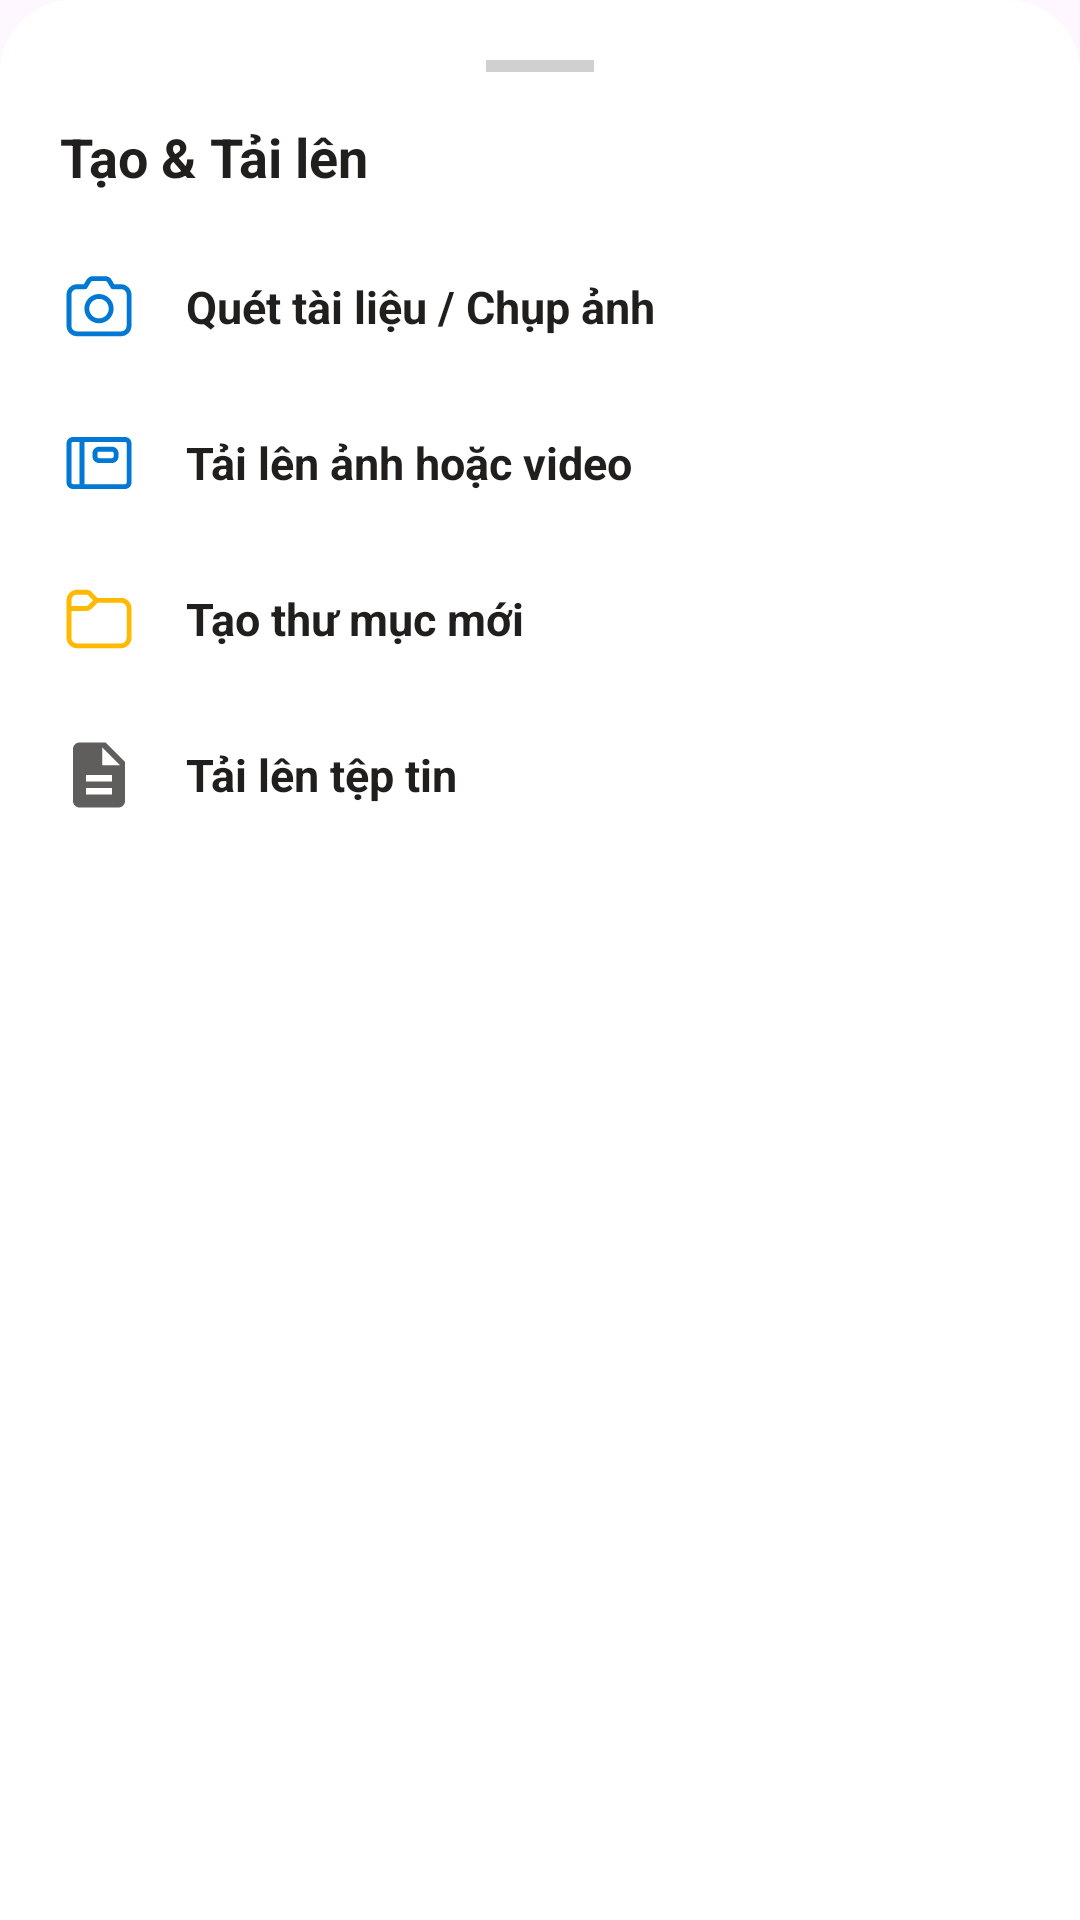

Icons on this 1080×1920 Android screen, each with its box as (left=x1, top=y1, right=x2, bottom=y2):
file: (left=73, top=742, right=125, bottom=808)
fluent album: (left=66, top=437, right=132, bottom=489)
fluent camera: (left=66, top=276, right=132, bottom=337)
fluent folder: (left=66, top=589, right=132, bottom=649)
